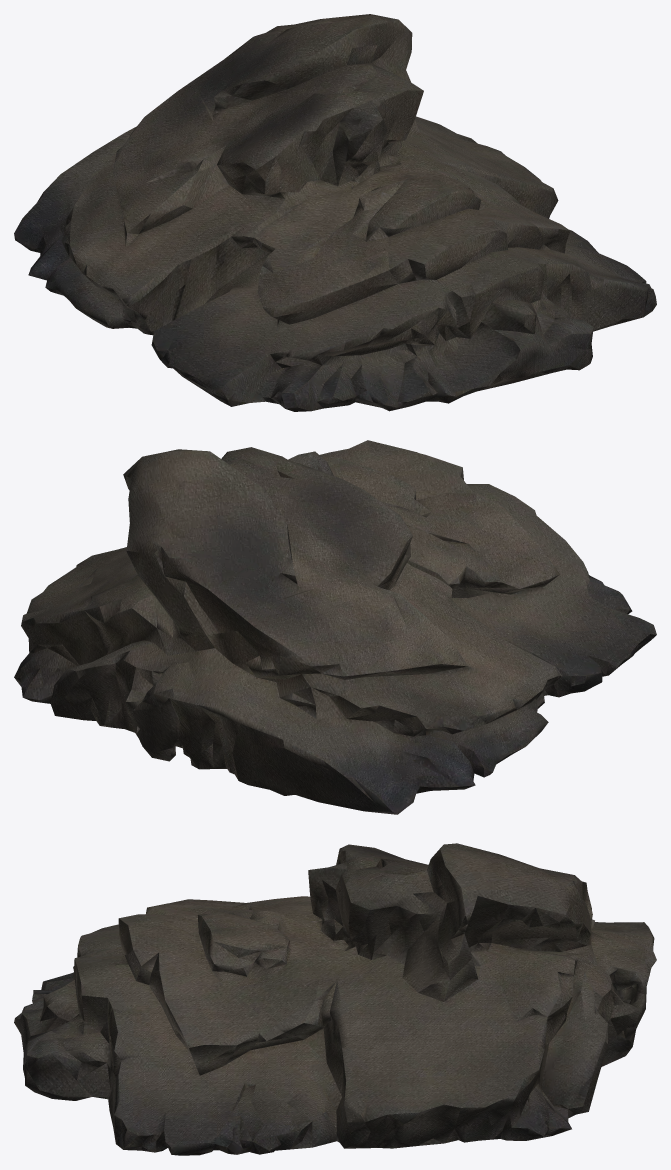
The model's file is rock-r3.glb.
3 renders of one model, top to bottom at view 1: azimuth 30°, elevation 25°; view 2: azimuth 150°, elevation 25°; view 3: azimuth 270°, elevation 25°, orthographic. The views are drawn at different scales.
Parts seen in each view (by area): view 1: Mesh; view 2: Mesh; view 3: Mesh.
Part boxes in pixels (<box>): Mesh: <box>14,14,656,411</box>; Mesh: <box>14,440,656,814</box>; Mesh: <box>14,843,656,1155</box>.
Size of the model in its own units: 1.59 by 0.7146 by 1.84.
Materials: 1 (1 with a texture image).
